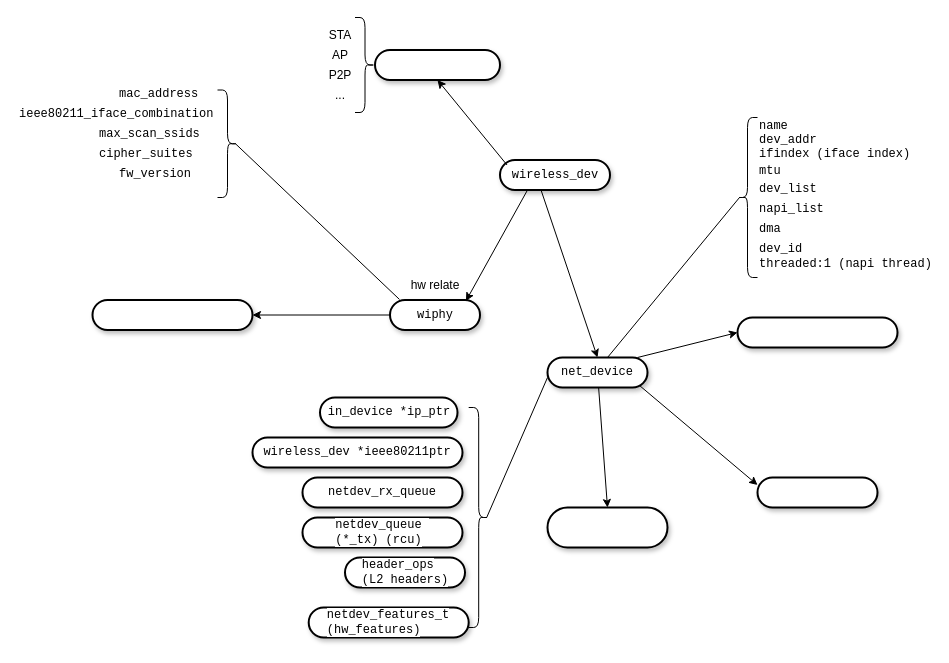
This 949x663 diagram has some shape labels left out. The shapes that lost their labels are listed below. From the top down, each one's centre as x and y in pixels, then its label:
the point at 438,66: nl80211_iftype
the point at 173,316: wiphy_vendor_command
the point at 818,333: netdev_name_node
the point at 818,493: netdev_ops
the point at 608,528: iw_handler_def (Wext)
